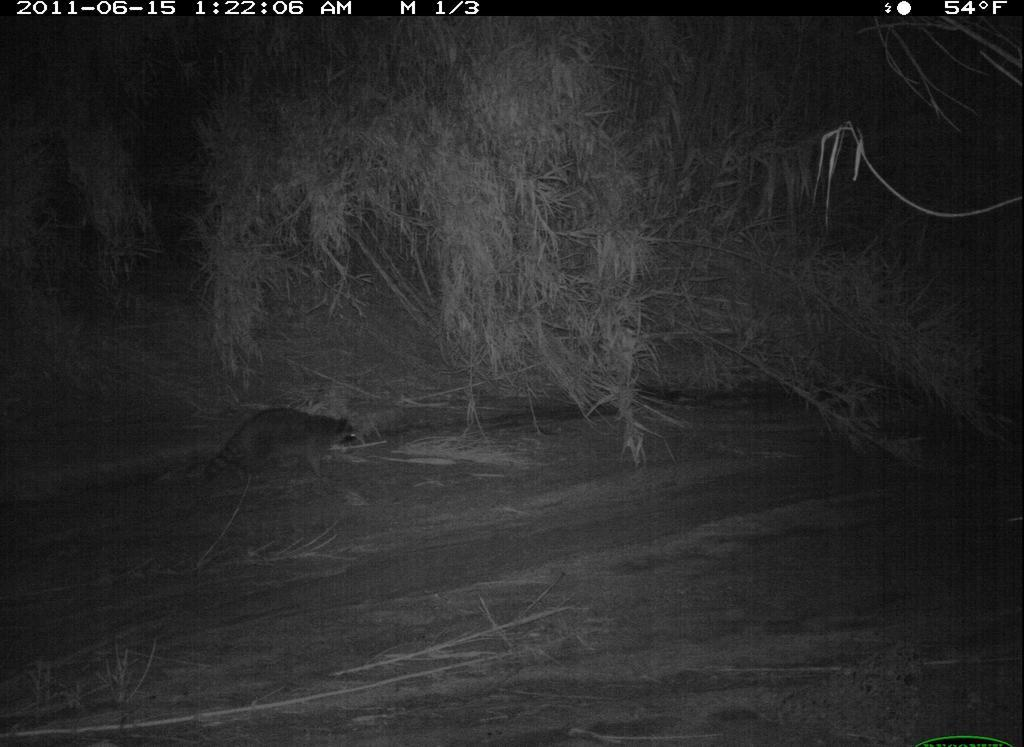raccoon: (191, 401, 364, 498)
